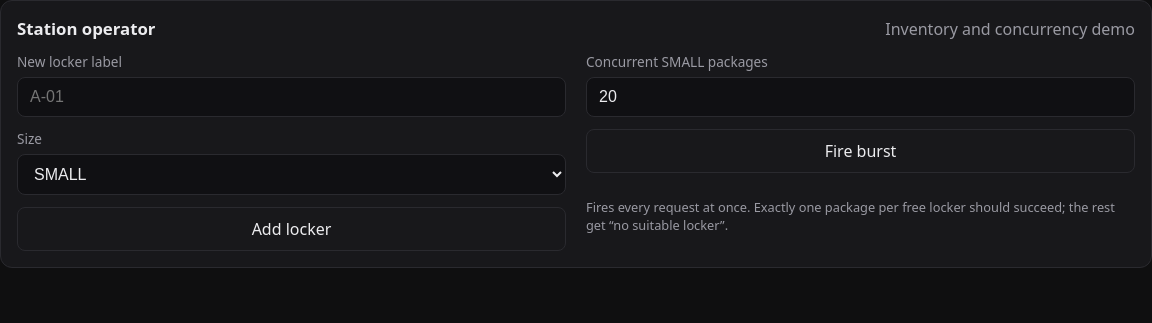
Test case: OperatorPanel burst demo › stores for a real customer account and counts wins, rejections and failures apart
Replace the text in the number field labelled "Concurrent SMALL packages" with "5" at (860, 97), box [586,77,1135,117]
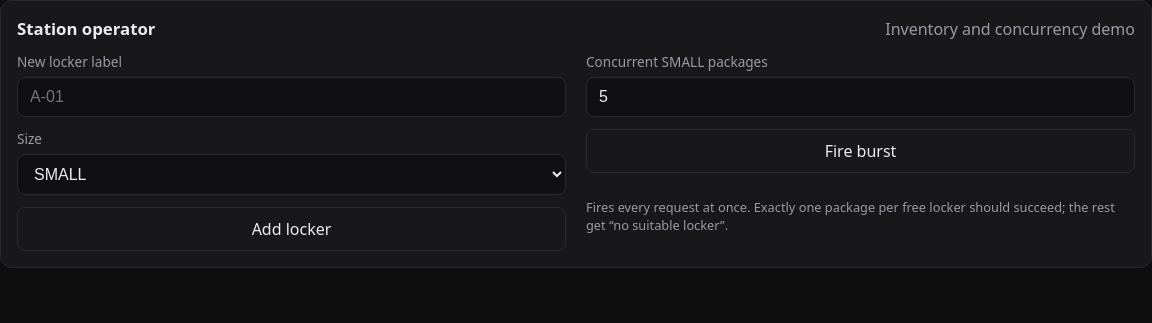
Click the button "Fire burst" at (860, 151), box [586,129,1135,173]
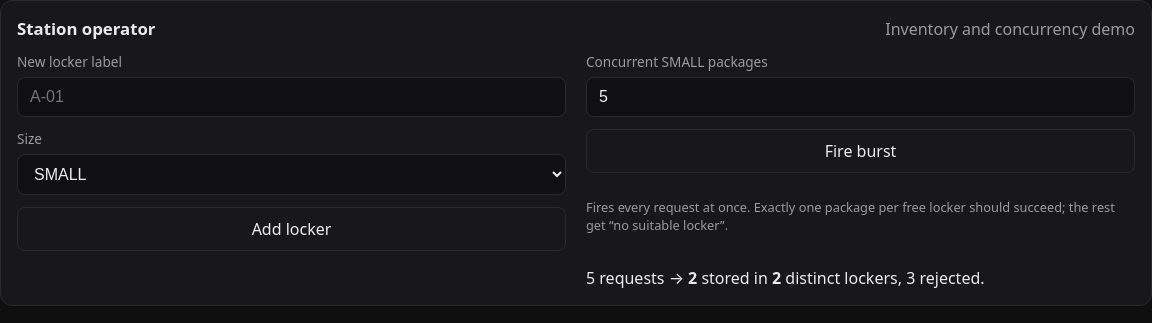
Expected: the element with test id "burst-result" shows "5 requests", [586,267,985,289]
Expected: the element with test id "burst-result" shows "2 stored", [586,267,985,289]
Expected: the element with test id "burst-result" shows "2 distinct lockers", [586,267,985,289]
